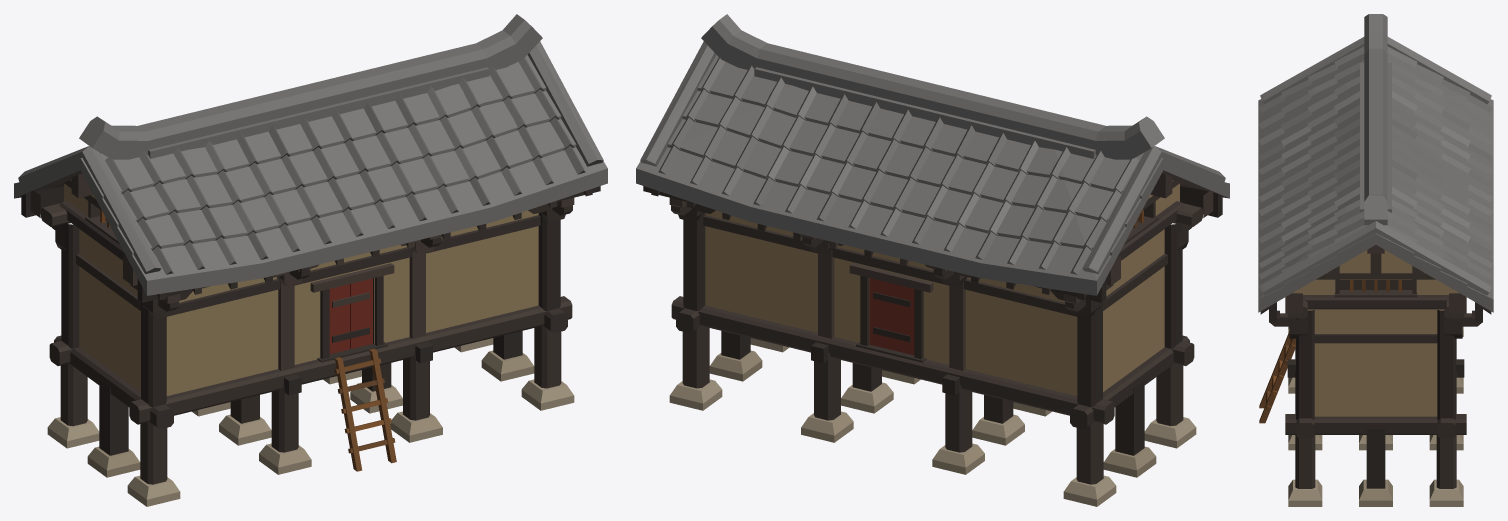
Rendered from raised_granary.glb.
3 views of the same model, side by side, from view 1: azimuth 30°, elevation 25°; view 2: azimuth 150°, elevation 25°; view 3: azimuth 270°, elevation 25° (orthographic). The views are drawn at different scales.
Parts seen in each view (by area): view 1: granary-body, ladder-mesh, hatch-leaf; view 2: granary-body; view 3: granary-body, ladder-mesh.
Boxes of the visible parts, <box> form: granary-body: <box>14,14,607,506</box>; ladder-mesh: <box>334,348,396,471</box>; hatch-leaf: <box>329,278,372,354</box>; granary-body: <box>636,14,1229,506</box>; granary-body: <box>1258,14,1493,506</box>; ladder-mesh: <box>1259,332,1295,423</box>.
Bounding box in the file's own units: 8 × 5.81 × 4.
